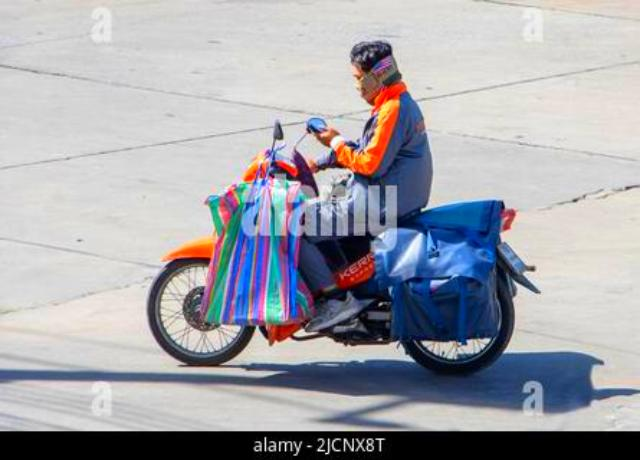motor: (148, 117, 518, 380)
non-helm: (351, 42, 397, 100)
